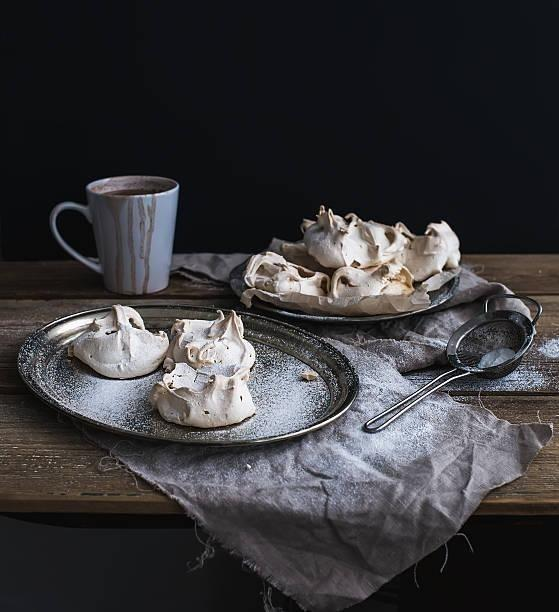cup-handle: (48, 174, 180, 296)
